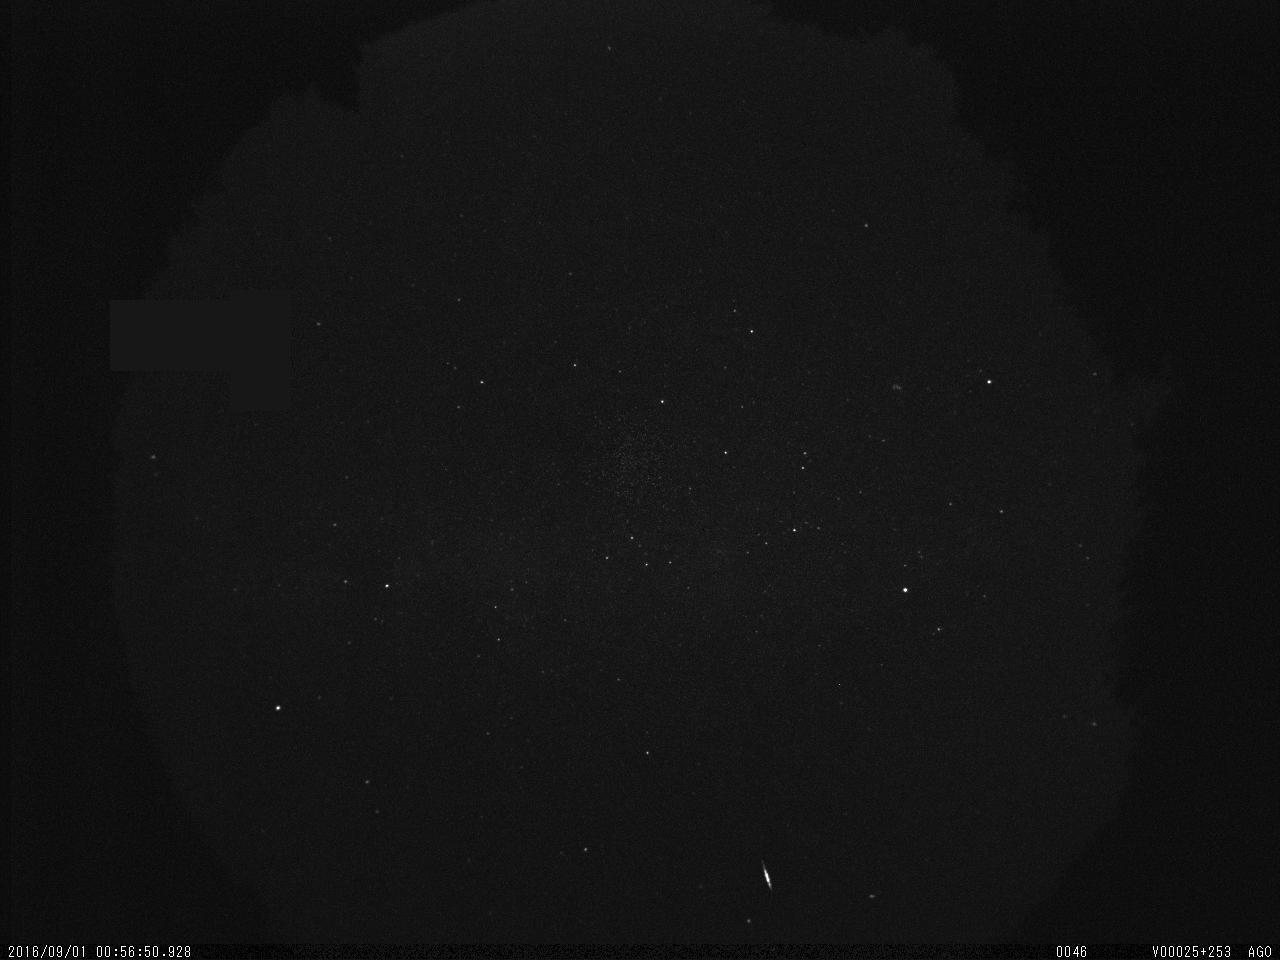meteor: (756, 858, 783, 898)
